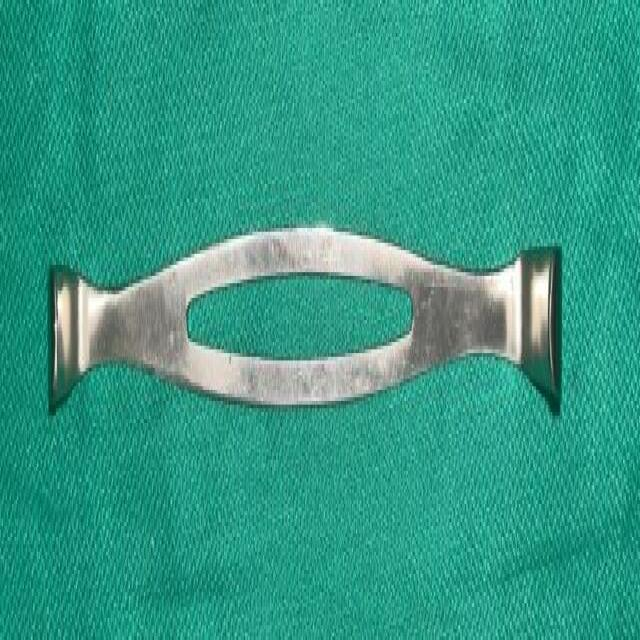Army Navy Retractor: (43, 169, 570, 465)
